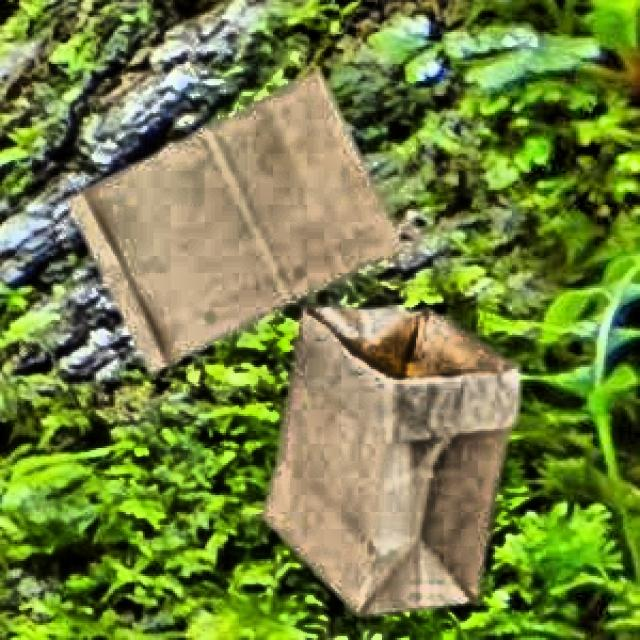Paper-bag: (72, 68, 397, 384), (260, 288, 538, 622)
